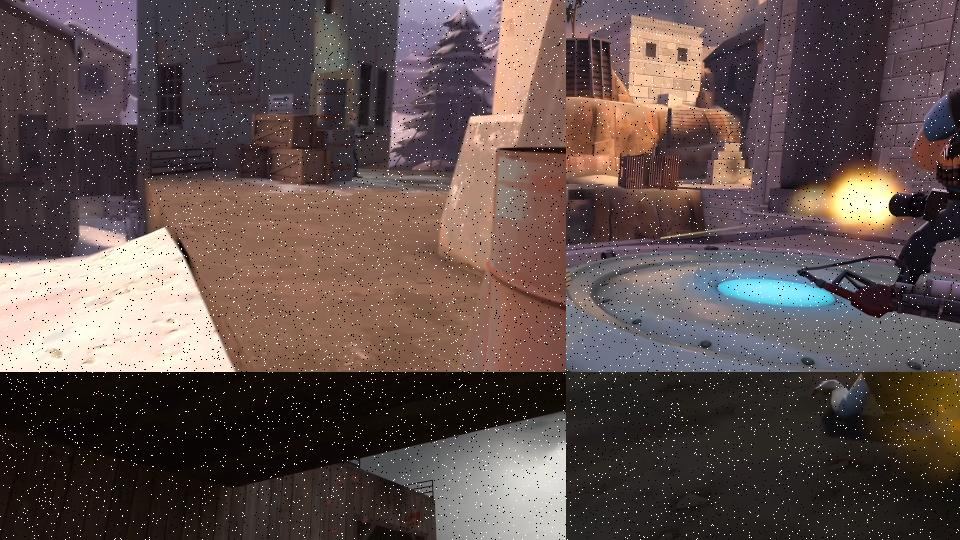Enemy: (889, 36, 960, 296), (815, 372, 960, 430)
